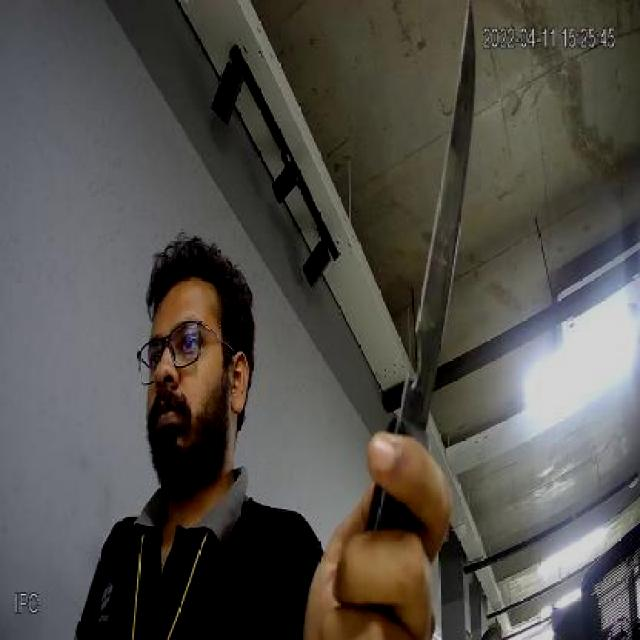knife: (402, 5, 483, 523)
